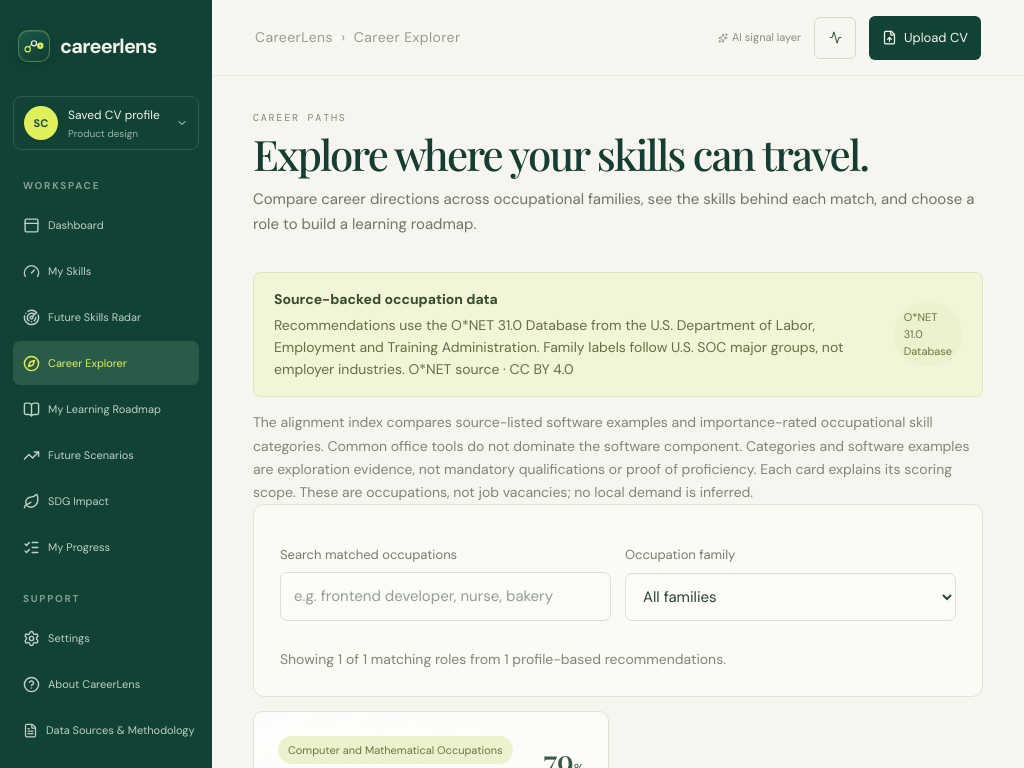
Test: O*NET career and SDG regression › shows the same specific occupation, stable code and associations on both pages
Click the link with test id "link-nav-sdg". click: (66, 501)
box: [23,492,109,510]
(page scrolled)
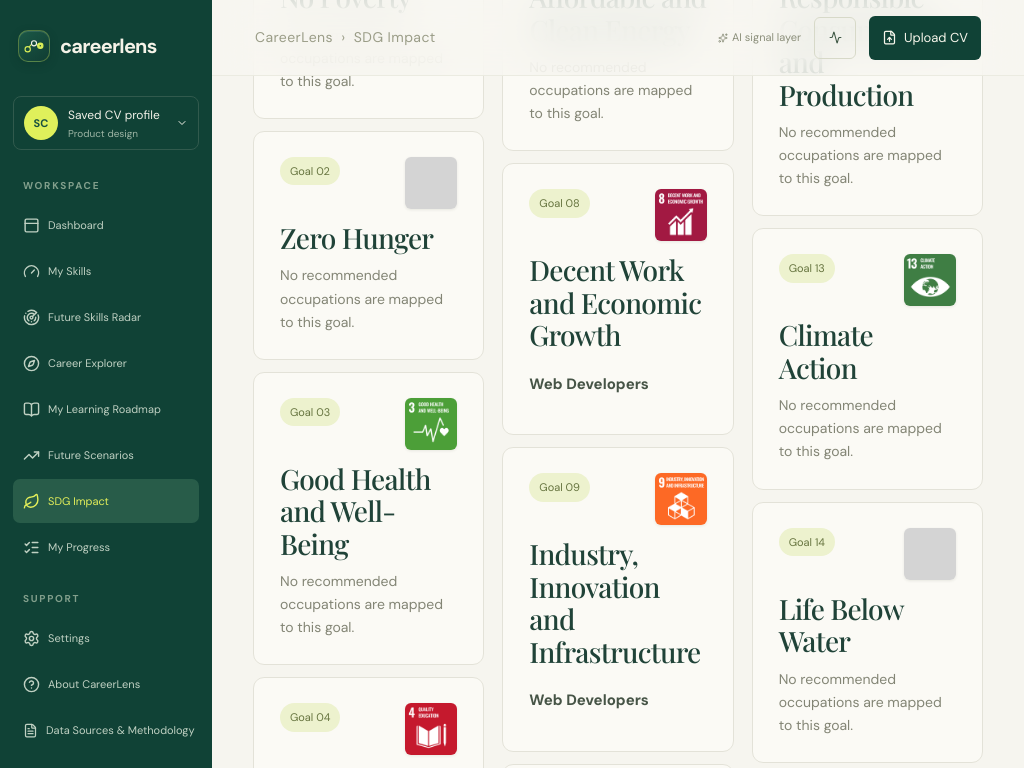
Now the element with test id "sdg-association-occupation-101-9" reads "Web Developers", box [529,690,649,710]
Now the element with test id "sdg-association-occupation-101-8" is shown, box [529,374,649,394]
